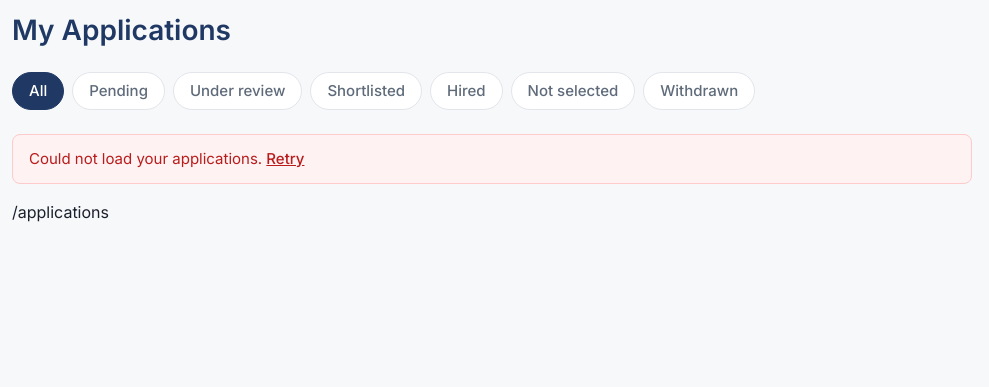
it: MyApplications › shows an error with a Retry that loads again
Expected: the text "Could not load your applications. Retry" is shown, [12, 134, 972, 184]
Click the button "Retry": click(285, 159) [266, 147, 304, 171]
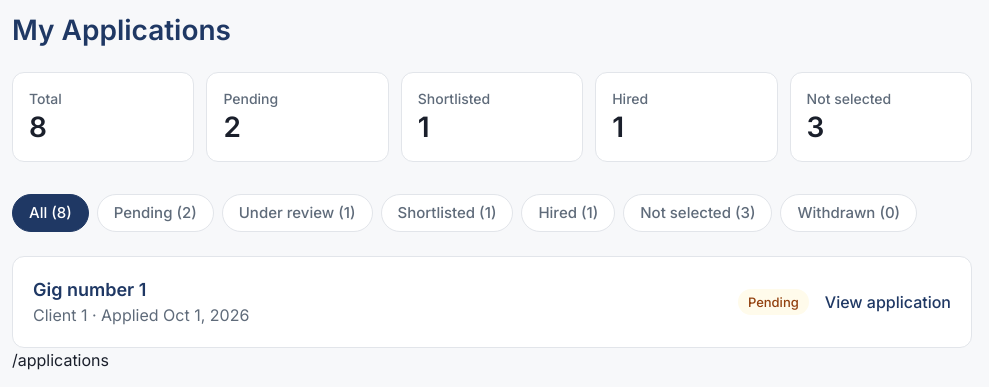
Result: the link "Gig number 1" is shown at [33, 279, 146, 300]
Result: the text "Could not load your applications" is gone
